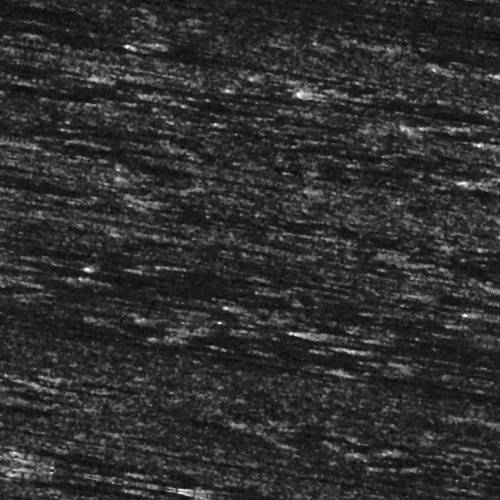object: (167, 486, 292, 500), (20, 478, 113, 491), (8, 304, 71, 321), (291, 315, 374, 326), (0, 288, 44, 301), (443, 141, 500, 150), (57, 98, 120, 105), (111, 64, 142, 69)
shadow: (0, 288, 432, 301), (0, 54, 258, 75), (66, 478, 412, 491), (40, 304, 260, 321), (229, 486, 444, 500), (0, 427, 83, 452), (332, 315, 500, 326), (89, 98, 247, 105), (127, 64, 288, 69), (0, 216, 33, 225), (0, 82, 47, 85)
